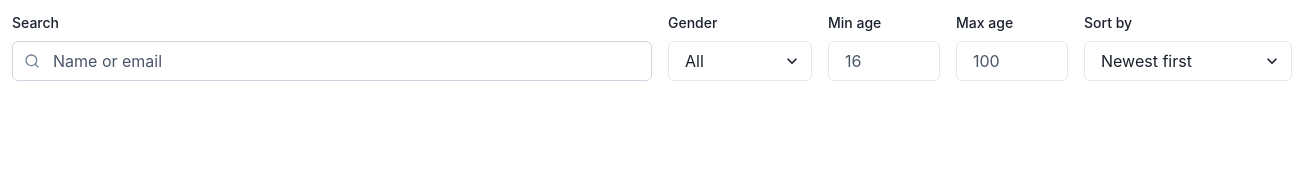
Test case: CustomerListToolbar › shows an error and sends nothing for an age outside 16 to 100
The width and height of the screenshot is (1304, 172).
In the number field labelled "Min age": (884, 61) [828,41,940,81], type "12"
Wait 300 ms
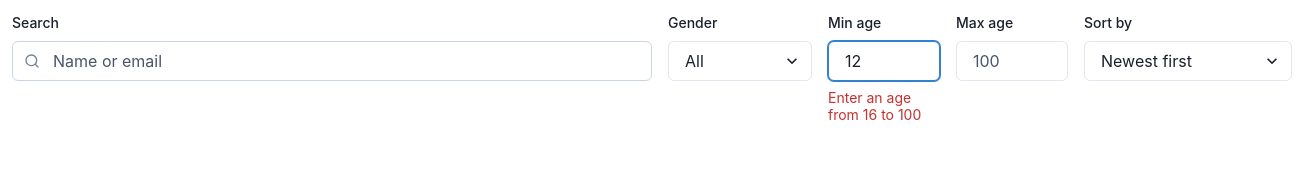
Result: the text "Enter an age from 16 to 100" is shown at [828,89,921,123]
